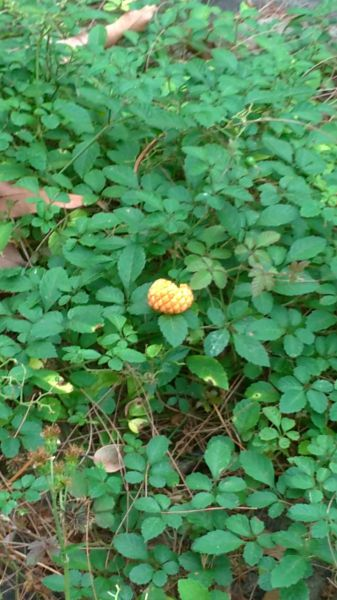eggs: (141, 275, 201, 318)
